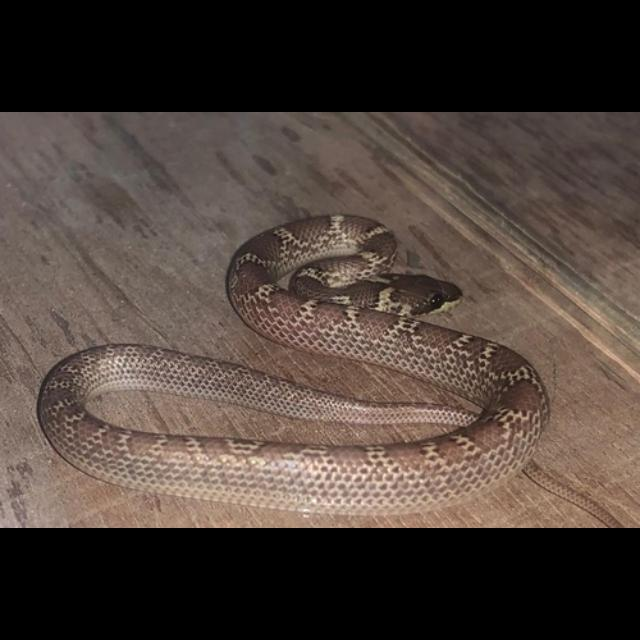snake: (32, 212, 554, 528)
